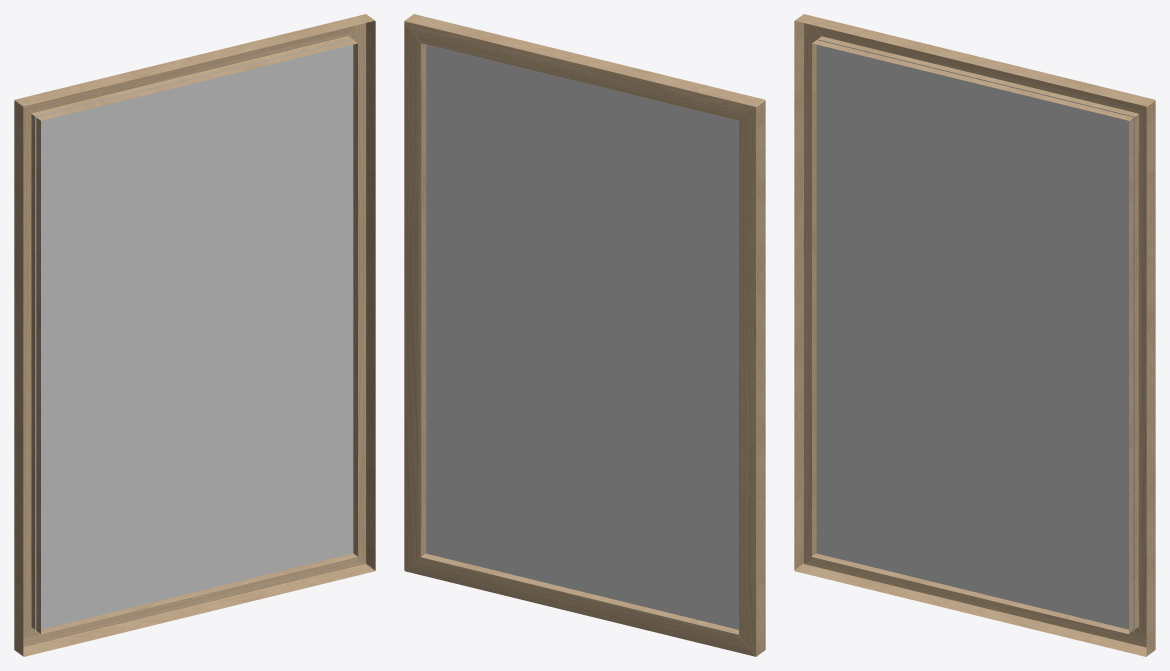
File: picture_big.fbx
3 renders of one model, left to right at view 1: azimuth 30°, elevation 25°; view 2: azimuth 150°, elevation 25°; view 3: azimuth 330°, elevation 25°, orthographic.
Visible parts, largest first — view 1: image, picture_small; view 2: image, picture_small; view 3: image, picture_small.
Boxes of the visible parts, x1,y1,x2,y2 form: image: [35, 39, 354, 631]; picture_small: [14, 14, 375, 656]; image: [426, 44, 738, 629]; picture_small: [404, 14, 765, 656]; image: [815, 39, 1134, 631]; picture_small: [794, 14, 1155, 656].
Bounding box in the file's own units: 59.03 × 88.11 × 2.75.
